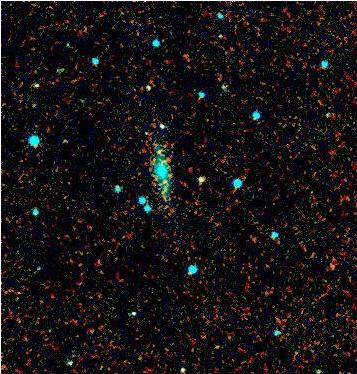star: (314, 252, 344, 282)
